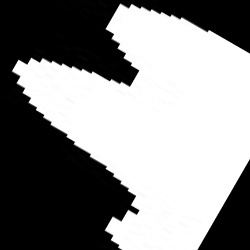spot: (11, 3, 249, 248)
